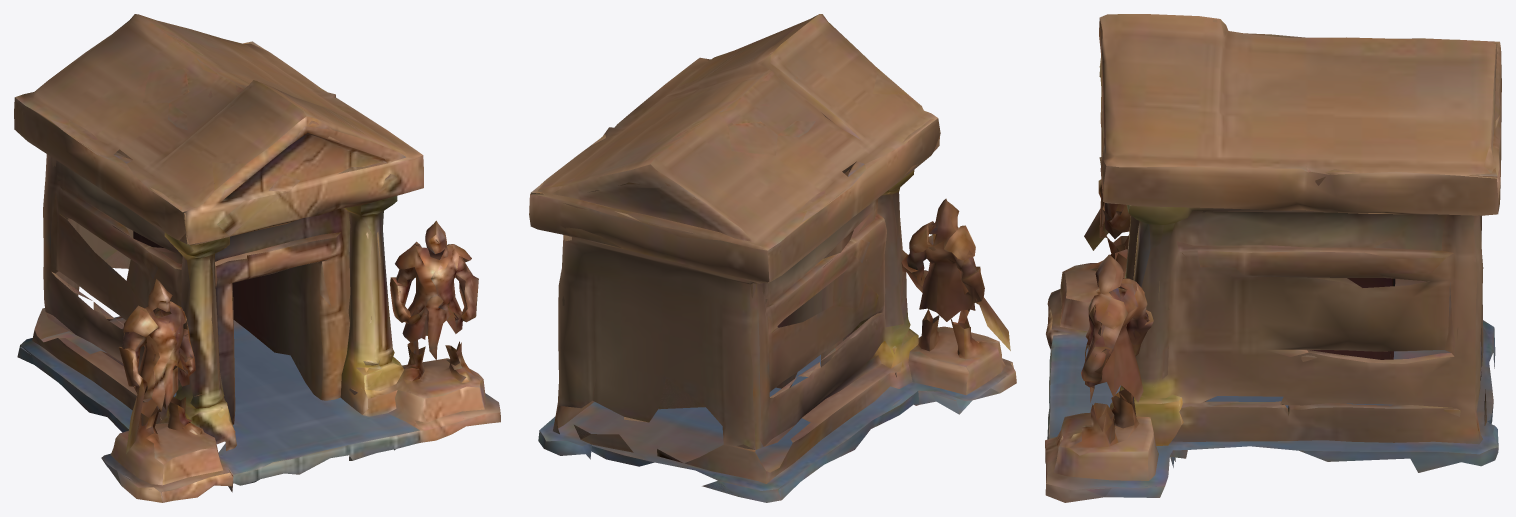
File: hallOfHeroes.glb
The picture shows the model from 3 angles, left to right: view 1: azimuth 30°, elevation 25°; view 2: azimuth 150°, elevation 25°; view 3: azimuth 270°, elevation 25°; orthographic projection. The views are drawn at different scales.
Parts seen in each view (by area): view 1: Mesh_0.001; view 2: Mesh_0.001; view 3: Mesh_0.001.
Part boxes in pixels (x1=…): Mesh_0.001: x1=14, y1=14, x2=500, y2=502; Mesh_0.001: x1=529, y1=14, x2=1016, y2=502; Mesh_0.001: x1=1045, y1=14, x2=1501, y2=502.
Size of the model in its own units: 0.8132 by 0.7288 by 0.7651.
1 material, 1 textured.
